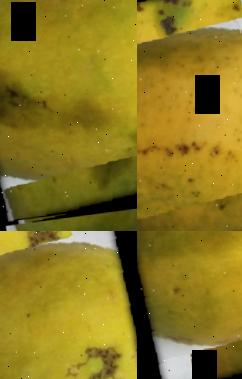PartiallyRipe: (0, 0, 137, 222), (137, 0, 242, 231), (0, 231, 137, 379), (137, 231, 242, 379)
